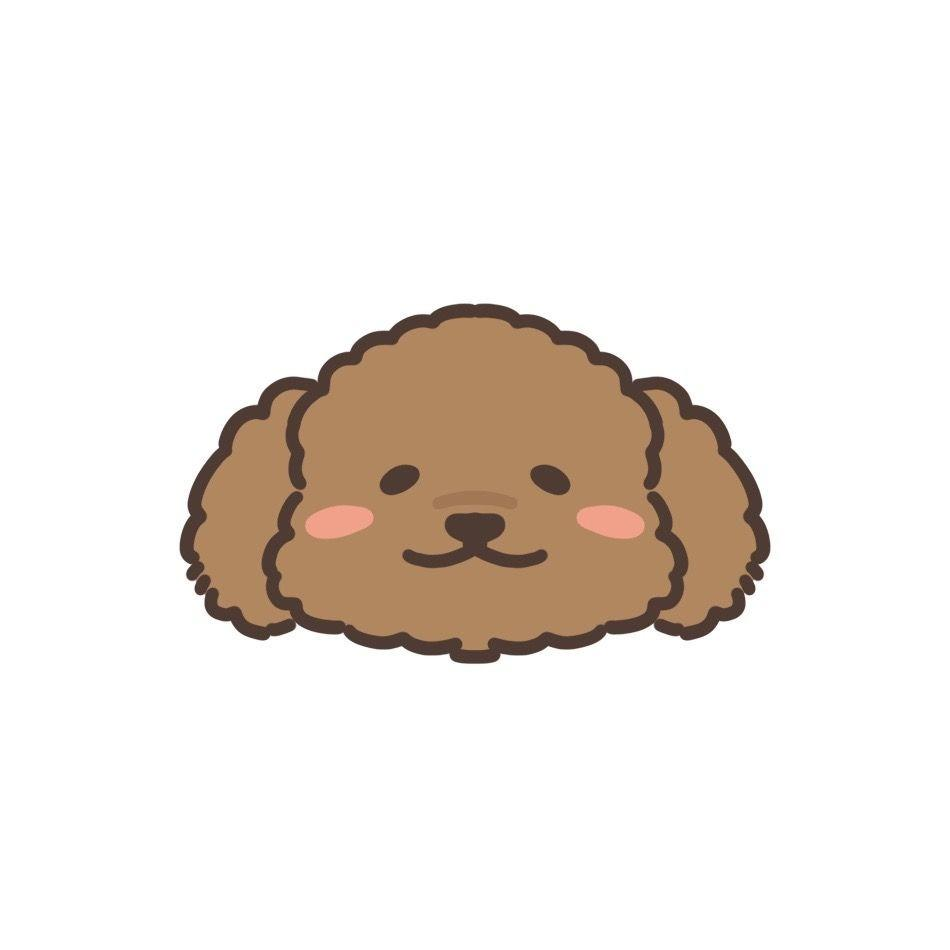non-dog: (174, 295, 776, 670)
